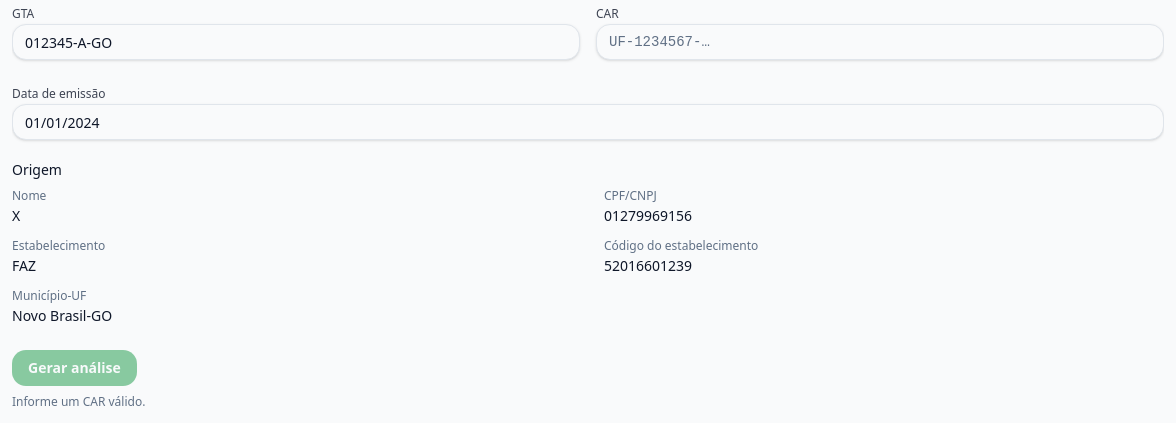
Scenario: GtaReviewPanel › disables generate until a valid CAR is entered (no match)
The width and height of the screenshot is (1176, 423).
Expected: the button with test id "gta-generate" is disabled, [12,350,137,386]
Type "GO-1234567-AAAAAAAAAAAAAAAAAAAAAAAAAAAAAAAA" into the field with test id "gta-car" at (880, 42), box [596,24,1164,60]
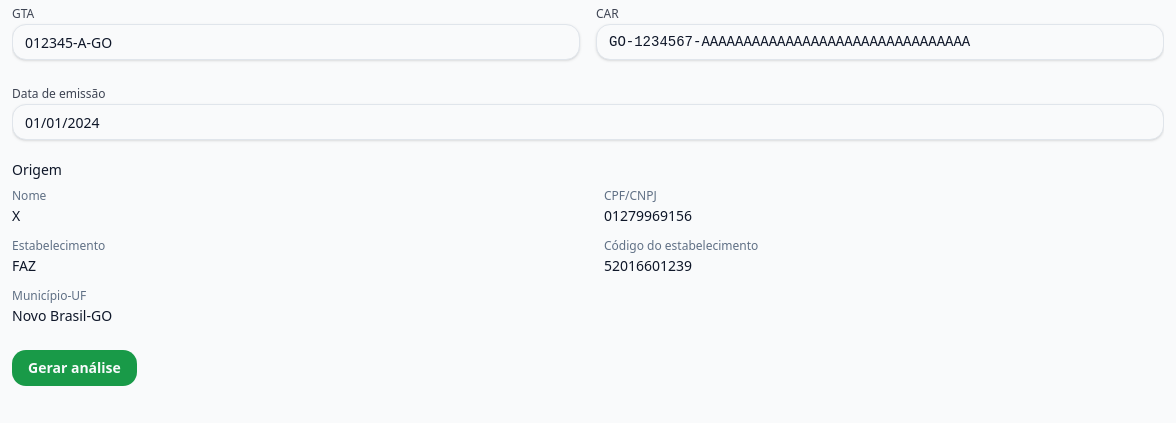
Expected: the button with test id "gta-generate" is enabled, [12,350,137,386]
